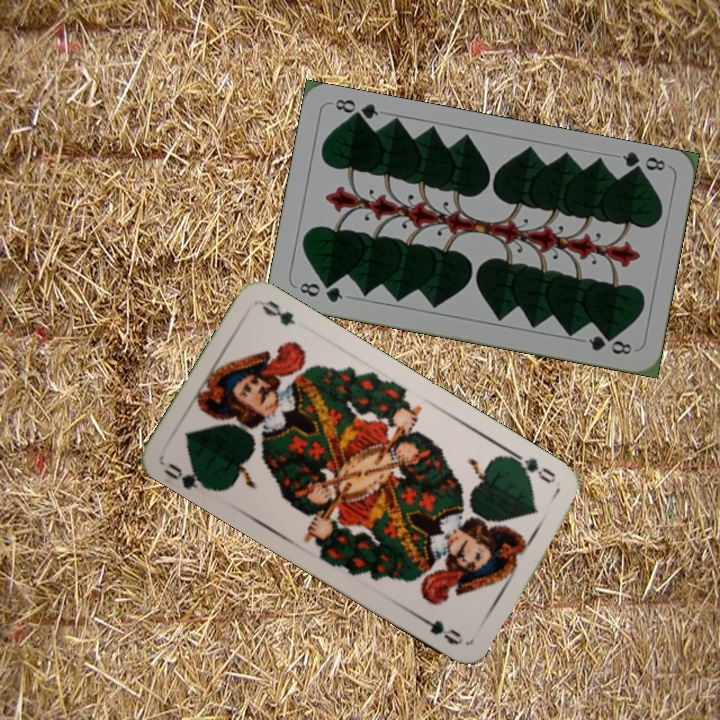G8: (618, 147, 668, 178), (295, 278, 346, 305)
GO: (507, 448, 559, 486), (160, 459, 216, 493)
